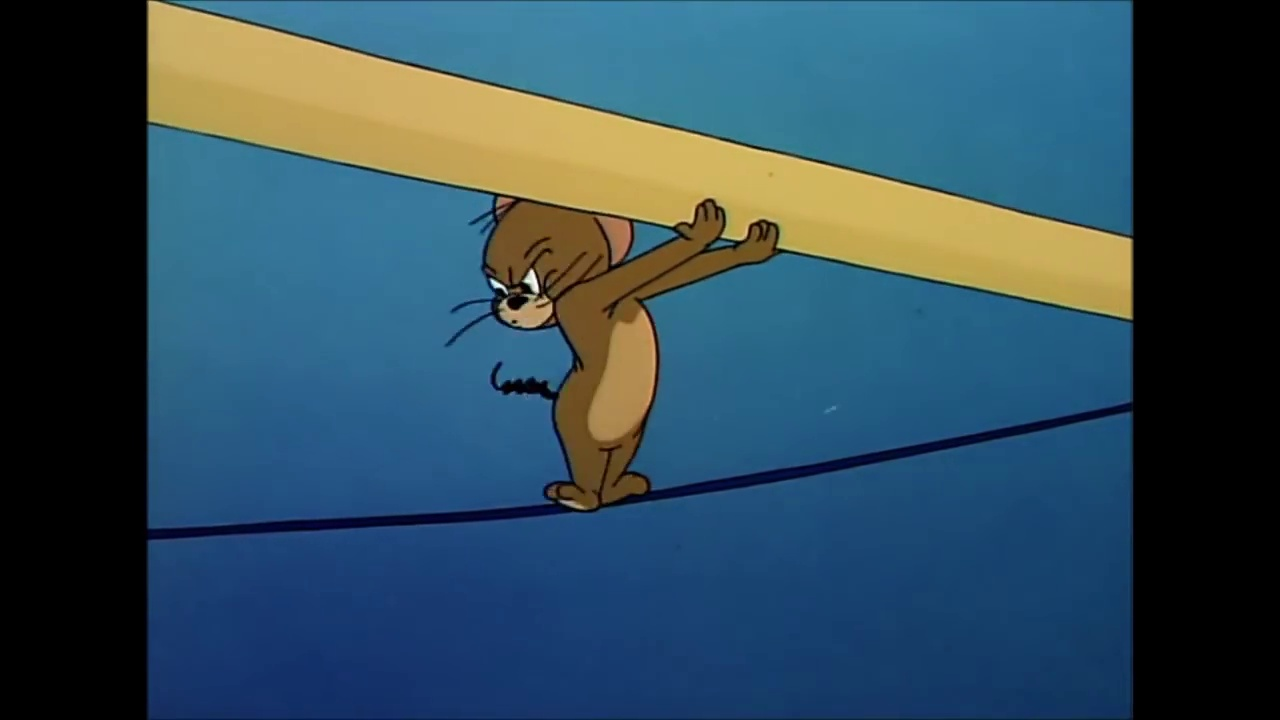angry: (485, 230, 563, 330)
